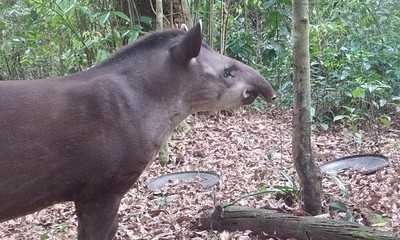Anta: (5, 18, 279, 225)
